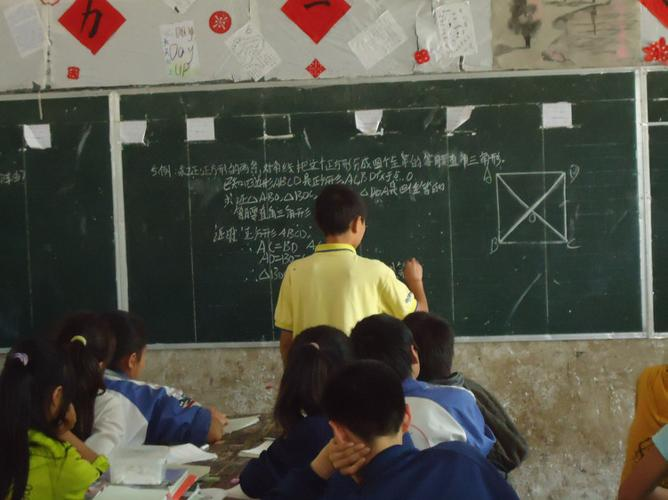person: (277, 185, 431, 373)
